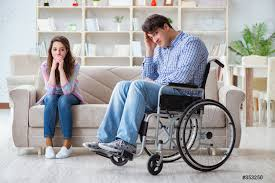wheelchair: (82, 13, 237, 176)
